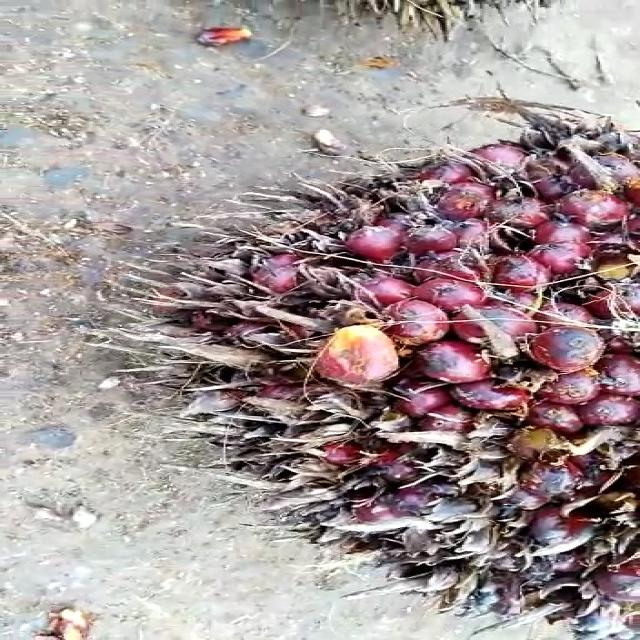palm oil: (165, 120, 640, 640)
